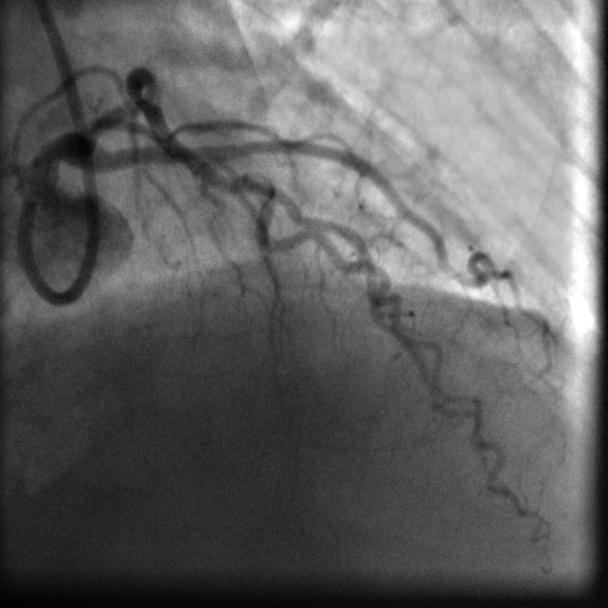Stenosis: (129, 78, 151, 121)
